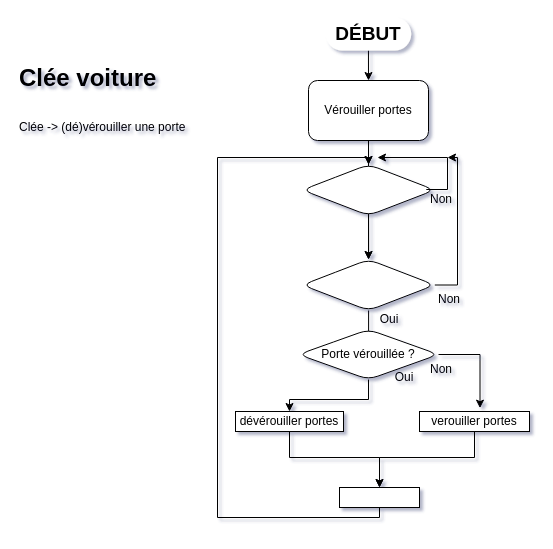
This 553x549 diagram has some shape labels left out. The shapes that lost their labels are listed below. From the top down, each one's centre as x and y in pixels, then its label:
At point (368, 190): "Signal clée recu ?".
At point (368, 284): "Bonne clée?".
At point (379, 497): "Clignotants".
